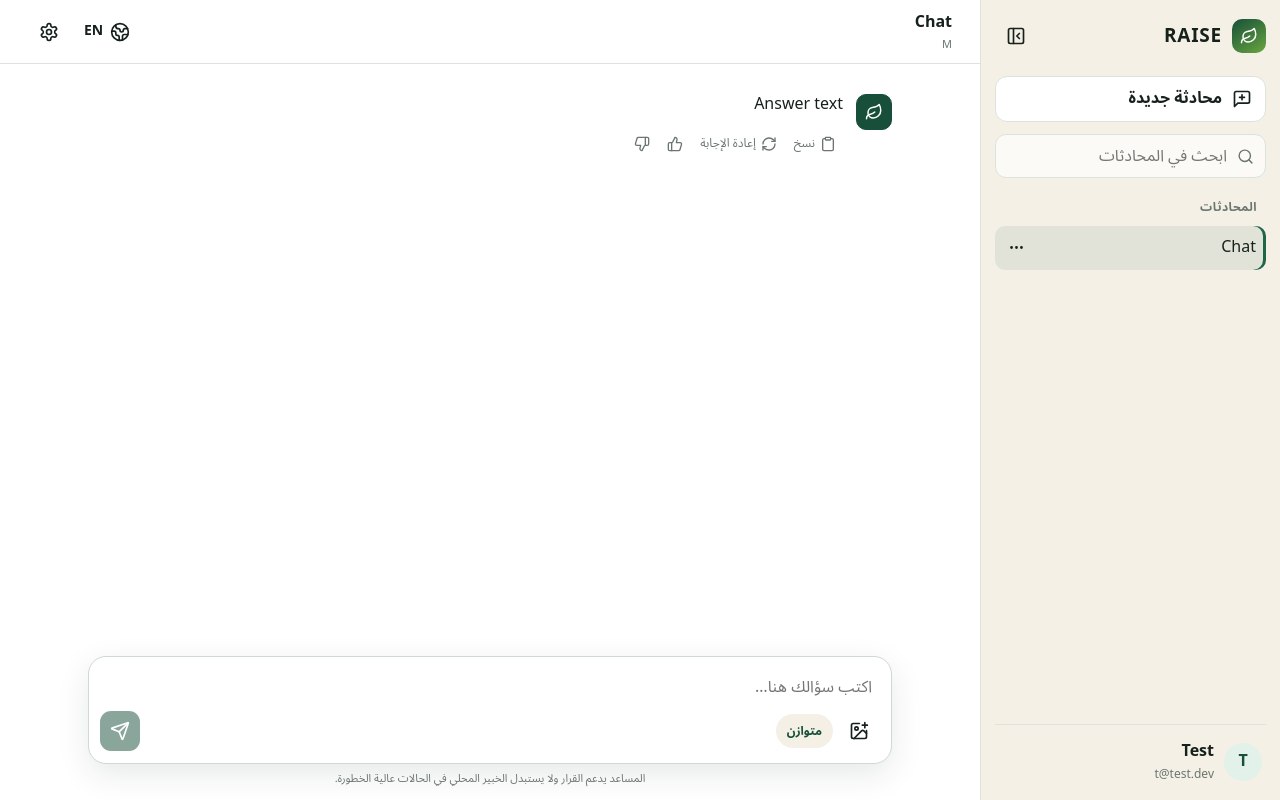
Test: ChatWorkspace feedback buttons › reverts the pressed state and surfaces an error when the request fails
The image size is (1280, 800).
Check: the text "Answer text" is shown, box top-left (754, 87), bottom-right (843, 121)
Step 1. Click the button named "مفيد" → (675, 144), box top-left (660, 127), bottom-right (690, 161)
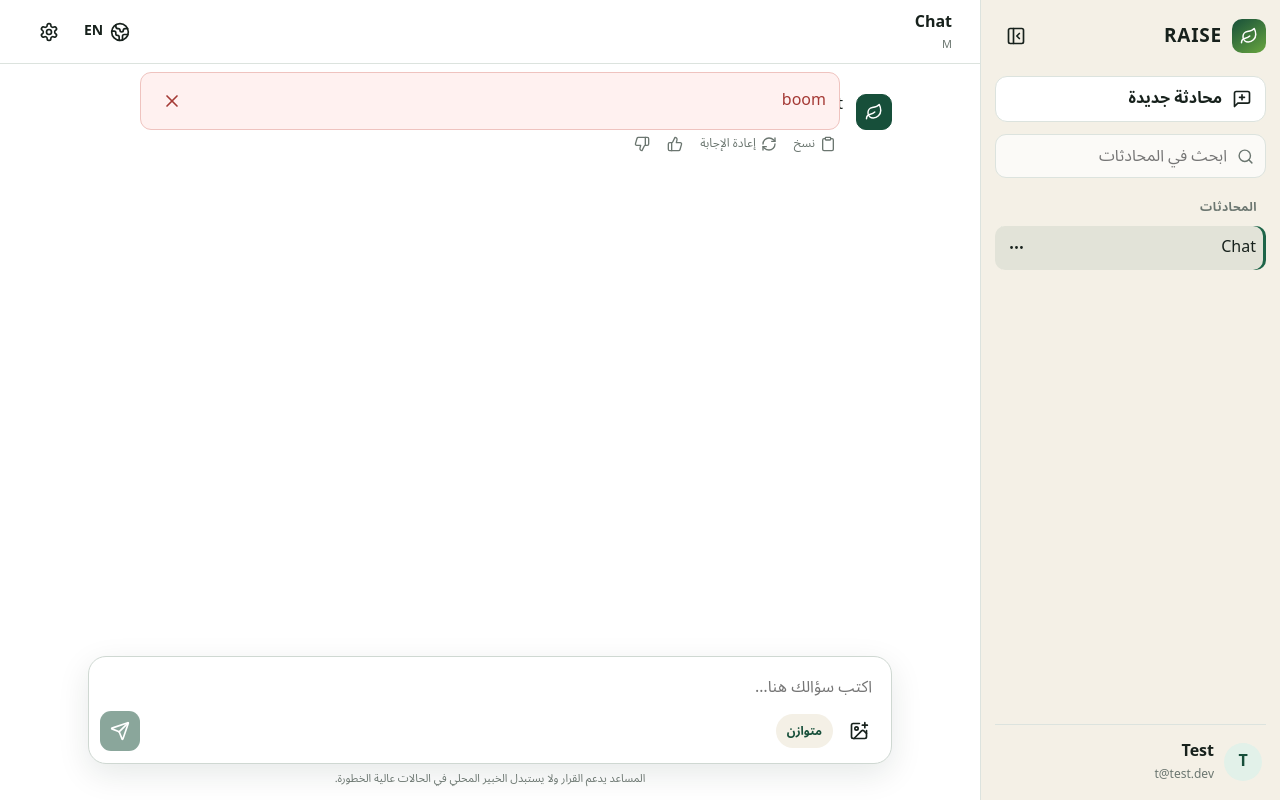
Check: the message "boom" is shown, box top-left (140, 72), bottom-right (840, 130)
